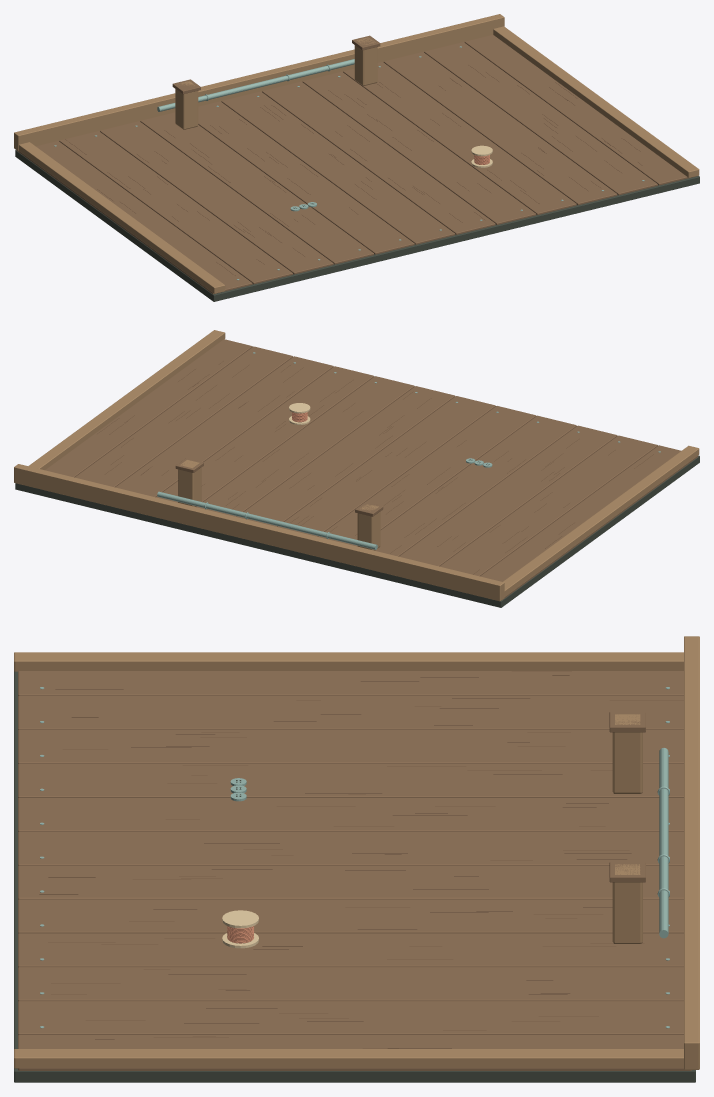
The model's file is floor_expanded.glb.
The picture shows the model from 3 angles, top to bottom: view 1: azimuth 30°, elevation 25°; view 2: azimuth 150°, elevation 25°; view 3: azimuth 270°, elevation 25°; orthographic projection. The views are drawn at different scales.
Visible parts, largest first — view 1: Lame de parquet.002, Lame de parquet.001, Lame de parquet.005, Lame de parquet.006, Lame de parquet.010, Lame de parquet.009, Lame de parquet.007, Plinthe, Lame de parquet.004, Lame de parquet.003, Lame de parquet.008, Lame de parquet.011 (+7 smaller); view 2: Plinthe, Lame de parquet.002, Lame de parquet.010, Lame de parquet.001, Lame de parquet.005, Lame de parquet.007, Lame de parquet.006, Lame de parquet.009, Lame de parquet.003, Lame de parquet.004, Lame de parquet.008, Lame de parquet.011 (+7 smaller); view 3: Lame de parquet.004, Lame de parquet.005, Lame de parquet.001, Lame de parquet.009, Lame de parquet.010, Lame de parquet.002, Lame de parquet.006, Lame de parquet.003, Lame de parquet.008, Lame de parquet.007, Lame de parquet, Solive.001 (+7 smaller).
Boxes of the visible parts, left/top/right/bottom form: Lame de parquet.002: left=100, top=121, right=333, bottom=274; Lame de parquet.001: left=59, top=131, right=292, bottom=284; Lame de parquet.005: left=221, top=91, right=455, bottom=244; Lame de parquet.006: left=262, top=81, right=495, bottom=234; Lame de parquet.010: left=424, top=42, right=657, bottom=195; Lame de parquet.009: left=383, top=52, right=617, bottom=205; Lame de parquet.007: left=302, top=71, right=536, bottom=224; Plinthe: left=14, top=14, right=504, bottom=151; Lame de parquet.004: left=198, top=101, right=414, bottom=254; Lame de parquet.003: left=140, top=112, right=373, bottom=264; Lame de parquet.008: left=343, top=61, right=576, bottom=214; Lame de parquet.011: left=464, top=35, right=697, bottom=185; Plinthe: left=14, top=464, right=504, bottom=601; Lame de parquet.002: left=399, top=425, right=617, bottom=566; Lame de parquet.010: left=75, top=346, right=292, bottom=487; Lame de parquet.001: left=439, top=435, right=657, bottom=576; Lame de parquet.005: left=277, top=396, right=495, bottom=536; Lame de parquet.007: left=196, top=376, right=414, bottom=516; Lame de parquet.006: left=237, top=386, right=455, bottom=526; Lame de parquet.009: left=115, top=356, right=333, bottom=497; Lame de parquet.003: left=375, top=415, right=576, bottom=556; Lame de parquet.004: left=318, top=406, right=536, bottom=546; Lame de parquet.008: left=156, top=366, right=373, bottom=506; Lame de parquet.011: left=45, top=339, right=252, bottom=477; Lame de parquet.004: left=18, top=797, right=683, bottom=831; Lame de parquet.005: left=18, top=831, right=683, bottom=865; Lame de parquet.001: left=18, top=695, right=683, bottom=729; Lame de parquet.009: left=18, top=967, right=683, bottom=1001; Lame de parquet.010: left=18, top=1001, right=683, bottom=1034; Lame de parquet.002: left=18, top=729, right=683, bottom=763; Lame de parquet.006: left=18, top=865, right=683, bottom=899; Lame de parquet.003: left=18, top=763, right=683, bottom=797; Lame de parquet.008: left=18, top=933, right=683, bottom=967; Lame de parquet.007: left=18, top=899, right=683, bottom=933; Lame de parquet: left=18, top=671, right=683, bottom=695; Solive.001: left=14, top=1049, right=683, bottom=1068.
Size of the model in its own units: 48 by 4.61 by 34.2.
